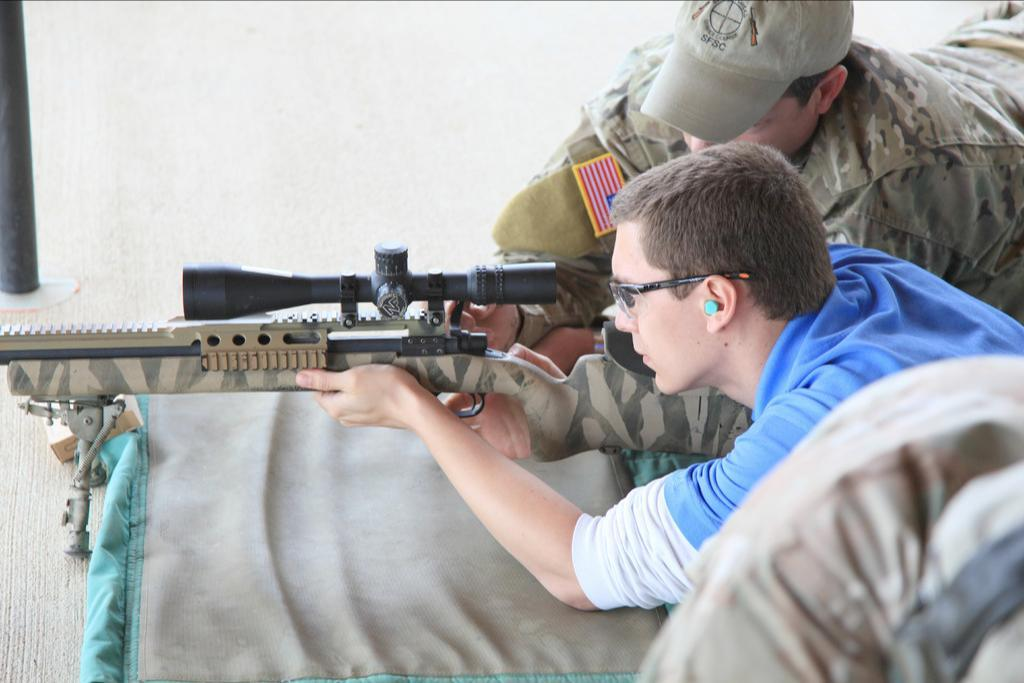gun: (0, 242, 627, 558)
